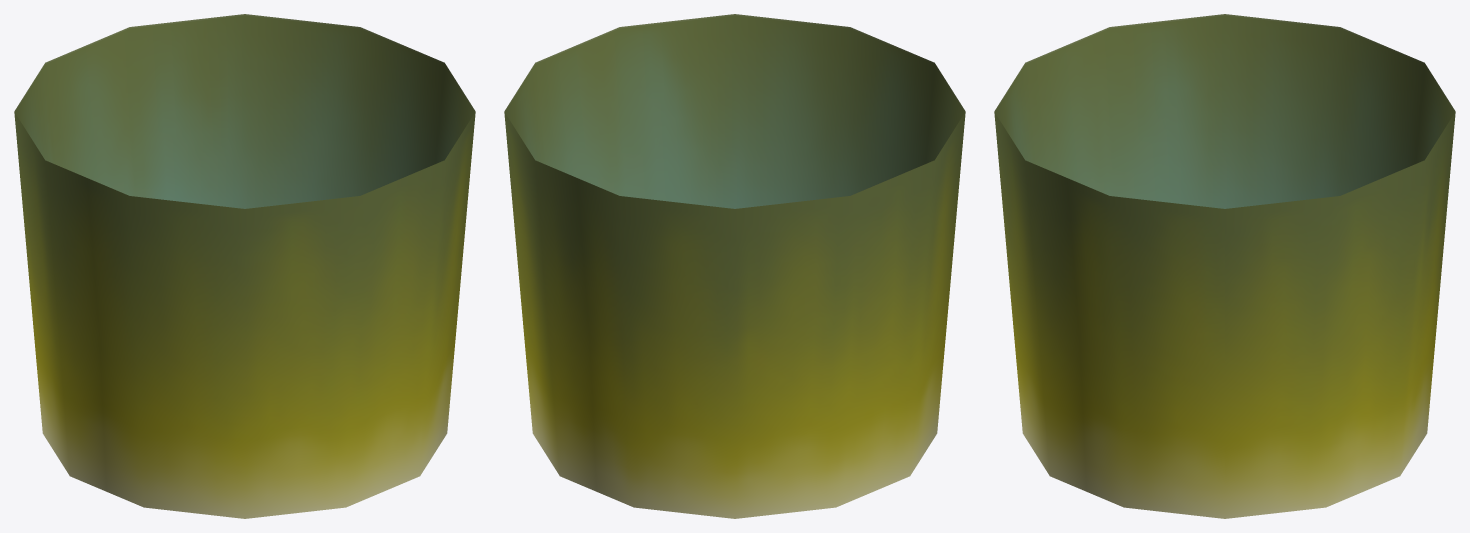
The model's file is plant_target.FBX.
3 views of the same model, side by side, from view 1: azimuth 30°, elevation 25°; view 2: azimuth 150°, elevation 25°; view 3: azimuth 270°, elevation 25° (orthographic).
Parts seen in each view (by area): view 1: Cylinder02; view 2: Cylinder02; view 3: Cylinder02.
Part boxes in pixels (x1,y1,x2,y2): Cylinder02: (14, 14, 475, 518); Cylinder02: (504, 14, 965, 518); Cylinder02: (994, 14, 1455, 518).
Bounding box in the file's own units: 116 × 89.01 × 116.
